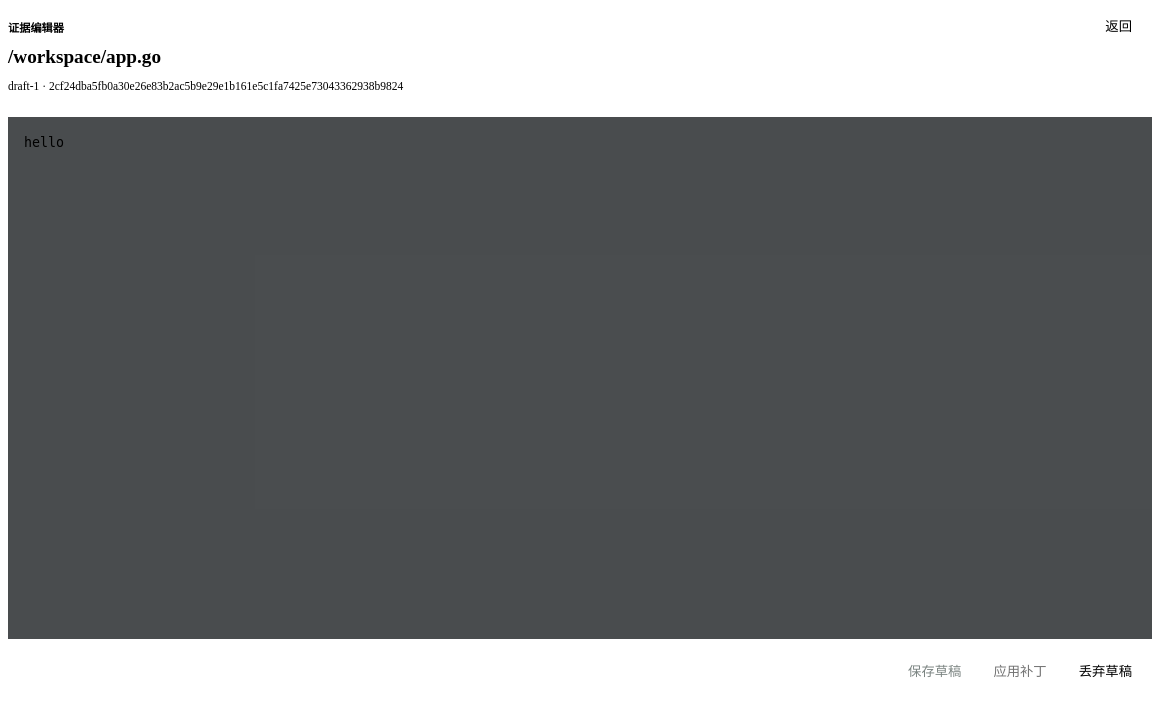
Test: EditorPage › keeps the editor open and reports a failed discard
Click the button "丢弃草稿". click: click(1105, 670)
box: [1067,653,1144,688]
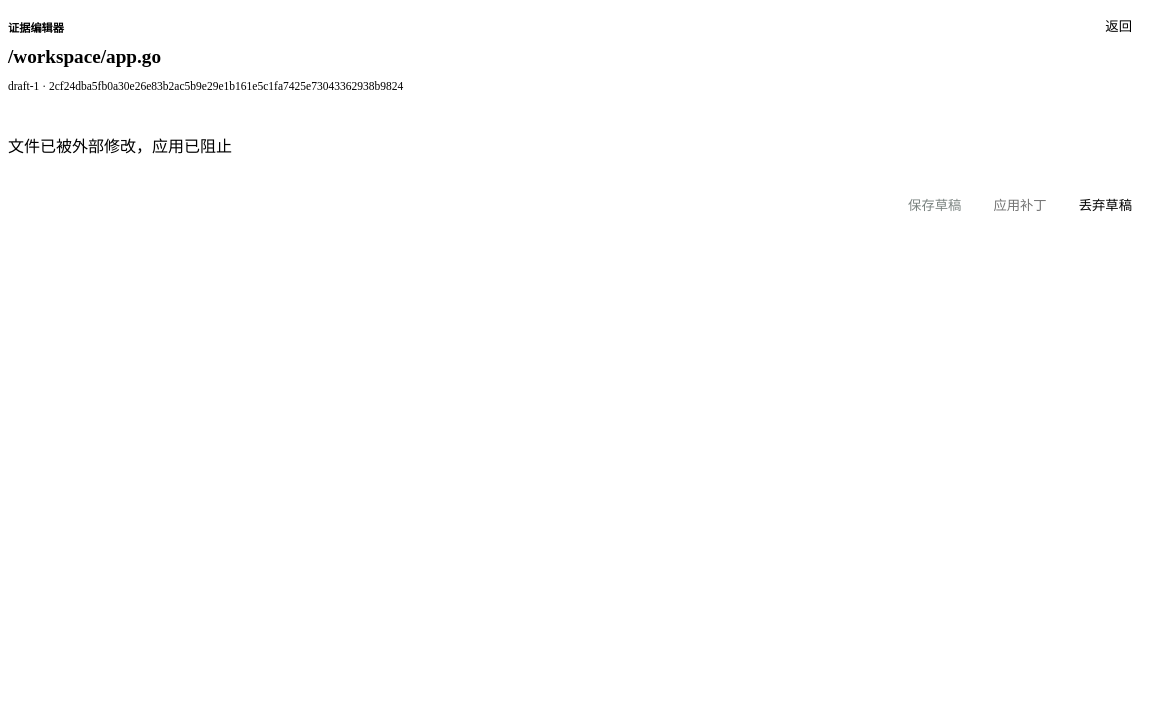
Check: the message shows "文件已被外部修改", box [8,138,232,155]
